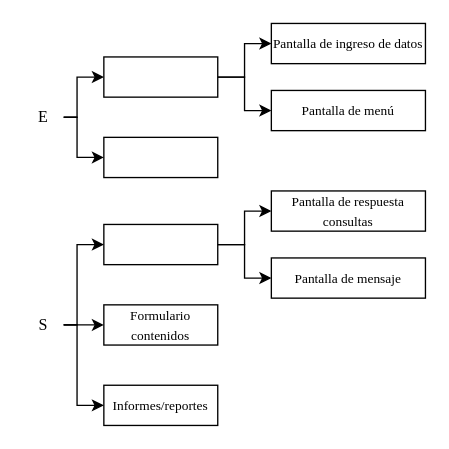
Image size: 449x449. Some labels were removed from this diagram. The shapes that lost their labels are listed below. From the top down, each one's centre as x and y in pixels, then its label:
At pixel 160 76: "Pantalla de E".
At pixel 160 157: "Formulario planos".
At pixel 160 244: "Pantalla de S".
